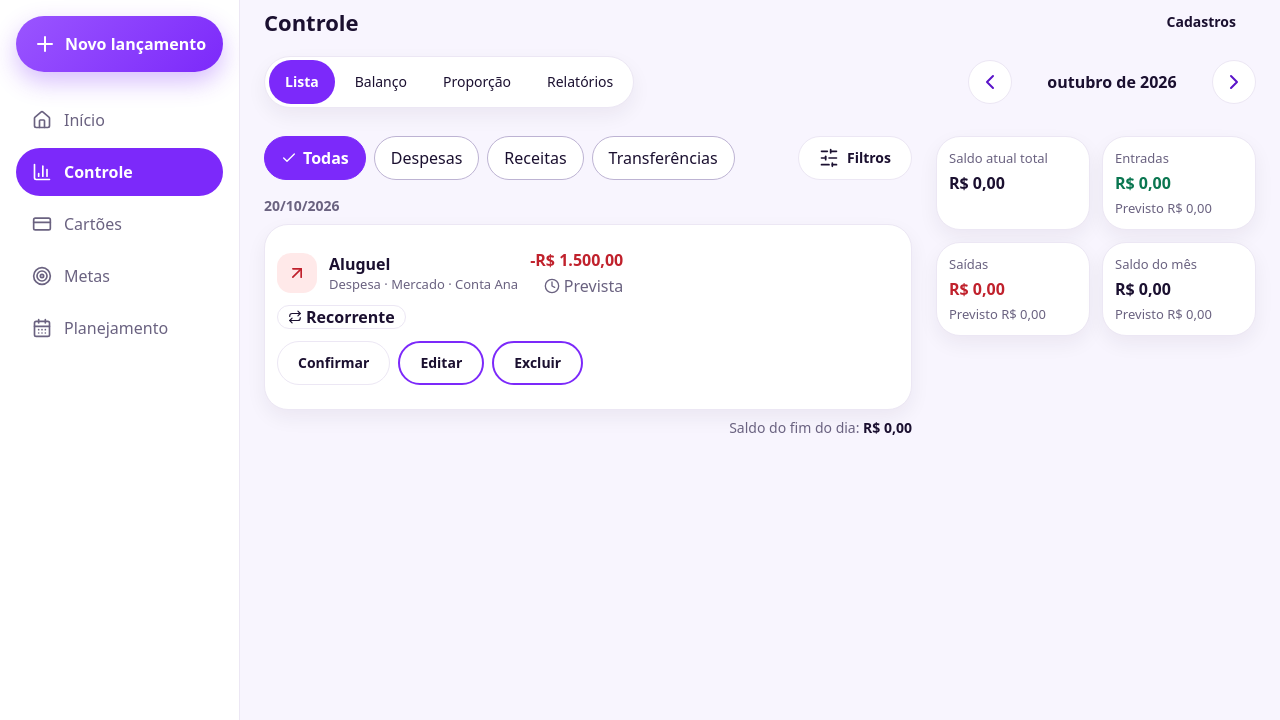
Test: troca de sheets: diálogo de alcance -> formulário (histórico real) › escolher o alcance desmonta o diálogo e monta o formulário, que abre e permanece
The image size is (1280, 720).
Check: the text "Aluguel" is shown, box 329,253 -> 390,275
What coordinates should you click on to do the following:
click the button "Editar"
I would click on:
 (441, 363)
Its box is 398,341 -> 484,385.
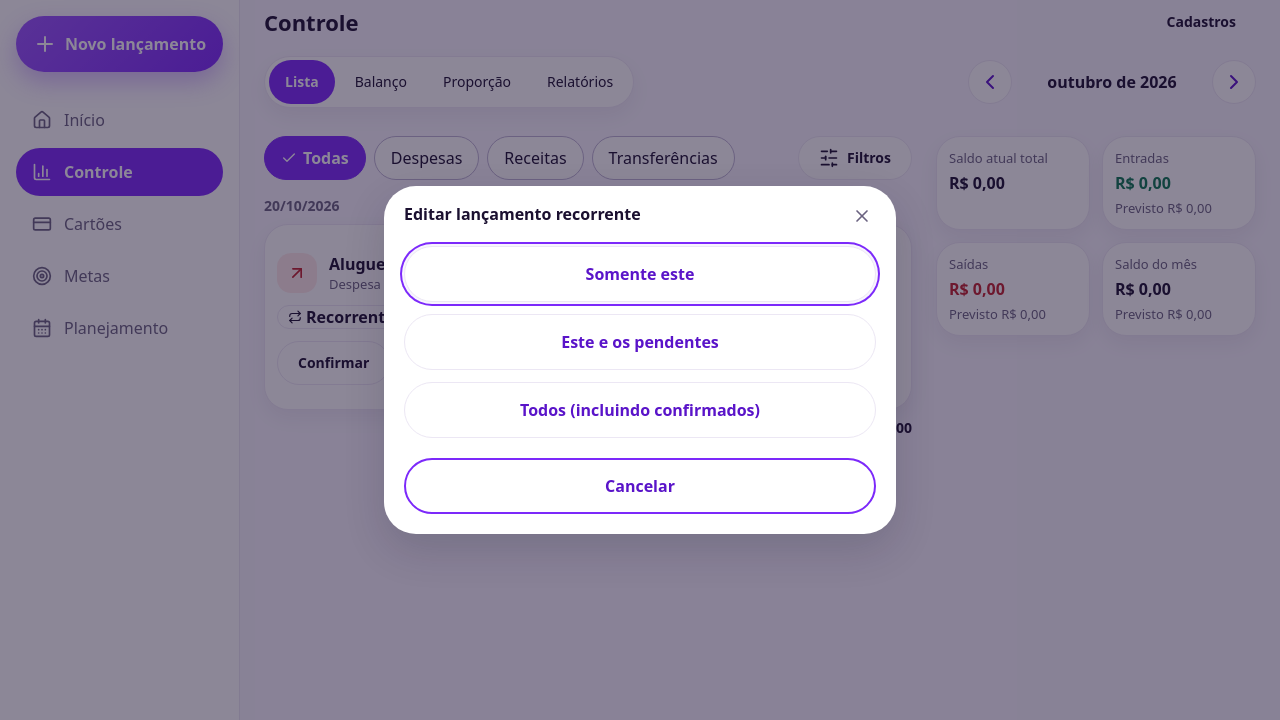
Check: the dialog "Editar lançamento recorrente" is shown, box 384,186 -> 896,534
What coordinates should you click on to do the following:
click the button "Todos (incluindo confirmados)"
I would click on:
 (640, 410)
Its box is 404,382 -> 876,438.
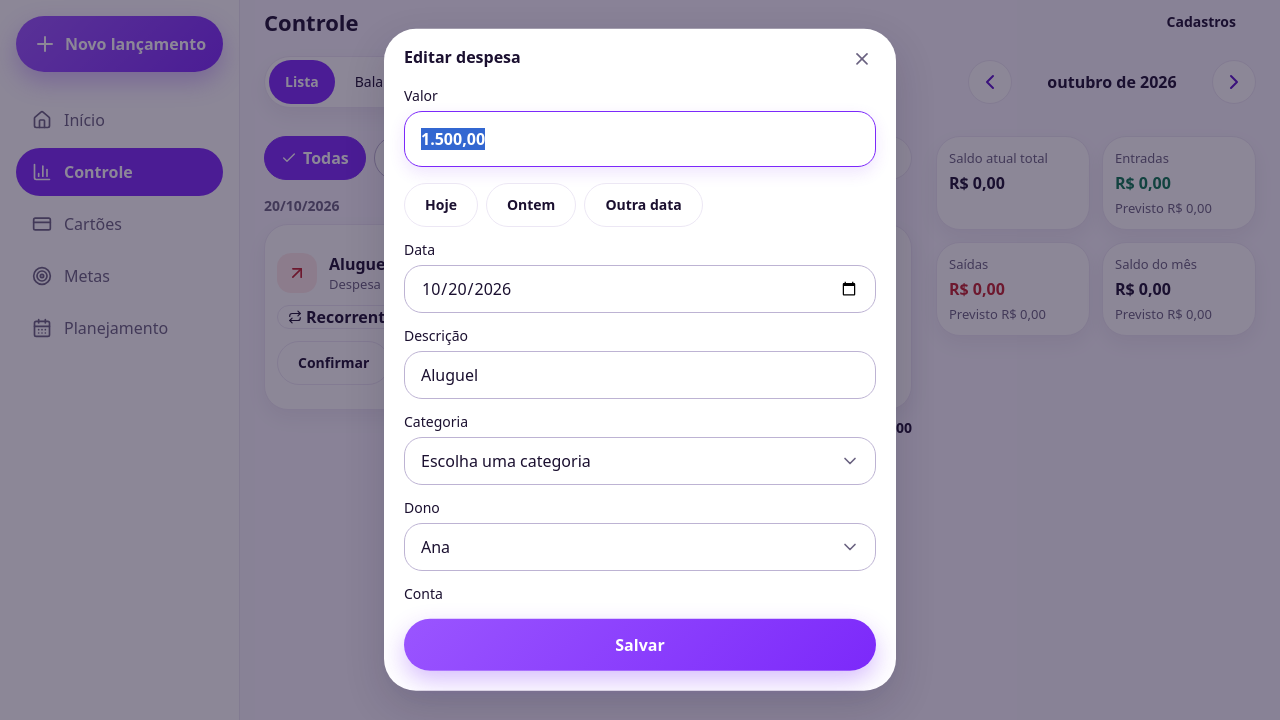
Check: the heading "Editar lançamento recorrente" is gone
Check: the number of dialogs is 1, box 384,29 -> 896,691
